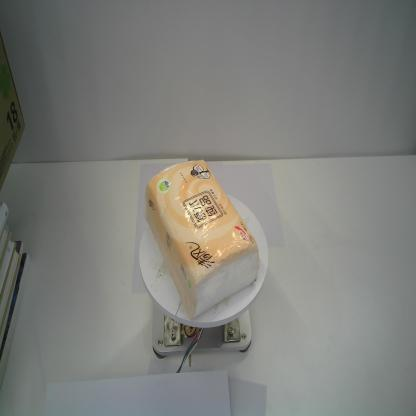Tissue: (144, 159, 260, 320)
